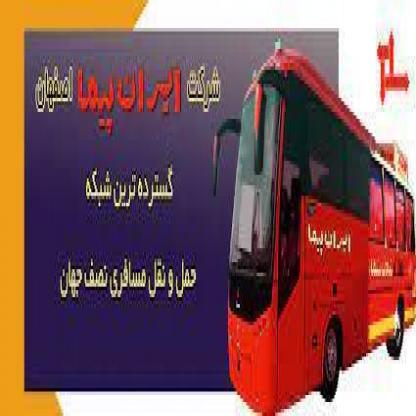Bus: (211, 10, 416, 398), (393, 98, 394, 126)
